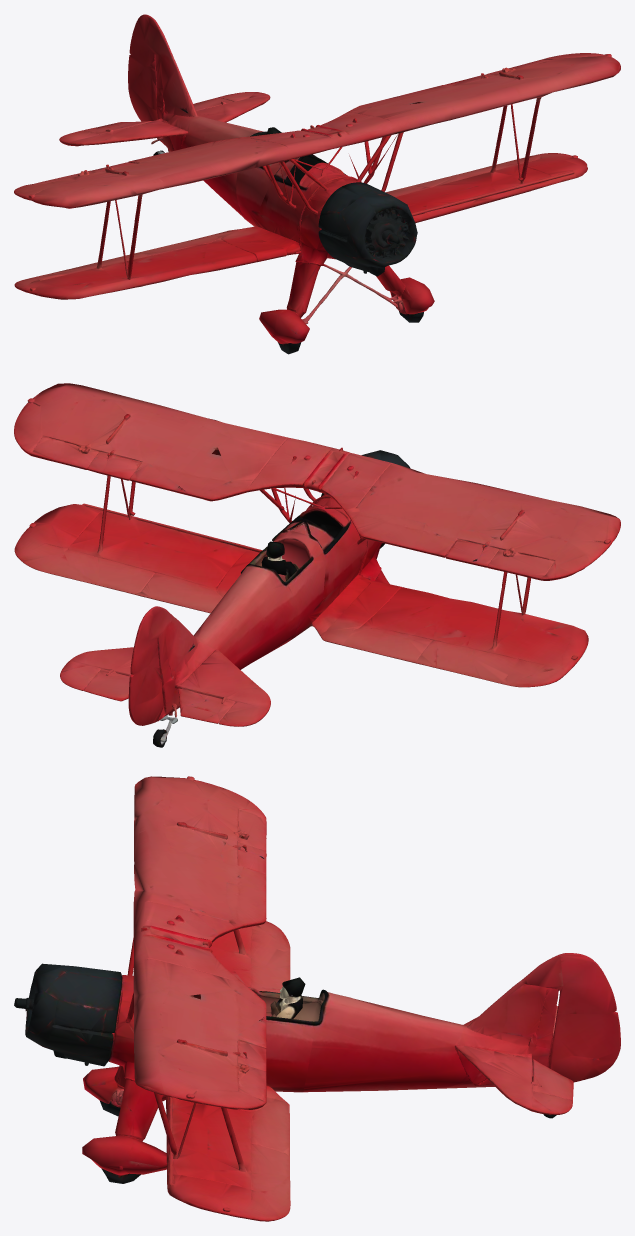
3 renders of one model, top to bottom at view 1: azimuth 30°, elevation 25°; view 2: azimuth 150°, elevation 25°; view 3: azimuth 270°, elevation 25°, orthographic. The views are drawn at different scales.
Parts seen in each view (by area): view 1: model; view 2: model; view 3: model.
Part boxes in pixels (bbox=[...]): model: bbox=[14, 14, 620, 354]; model: bbox=[14, 383, 620, 747]; model: bbox=[14, 776, 620, 1221].
Size of the model in its own units: 1.9 by 0.6174 by 1.52.
1 material, 1 textured.
